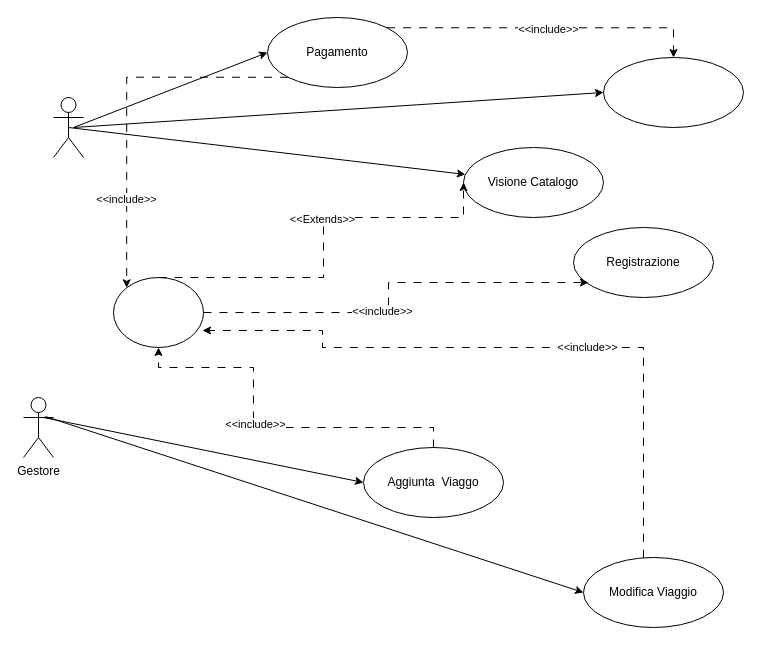
The diagram is 761 pixels wide and 645 high, and some of its shapes have lost their labels. The centre of each missing label's shape, as x and y in pixels:
"aggiunta su carrello" goes at point (673, 92).
"Cliente" goes at point (68, 127).
"Login" goes at point (158, 312).
